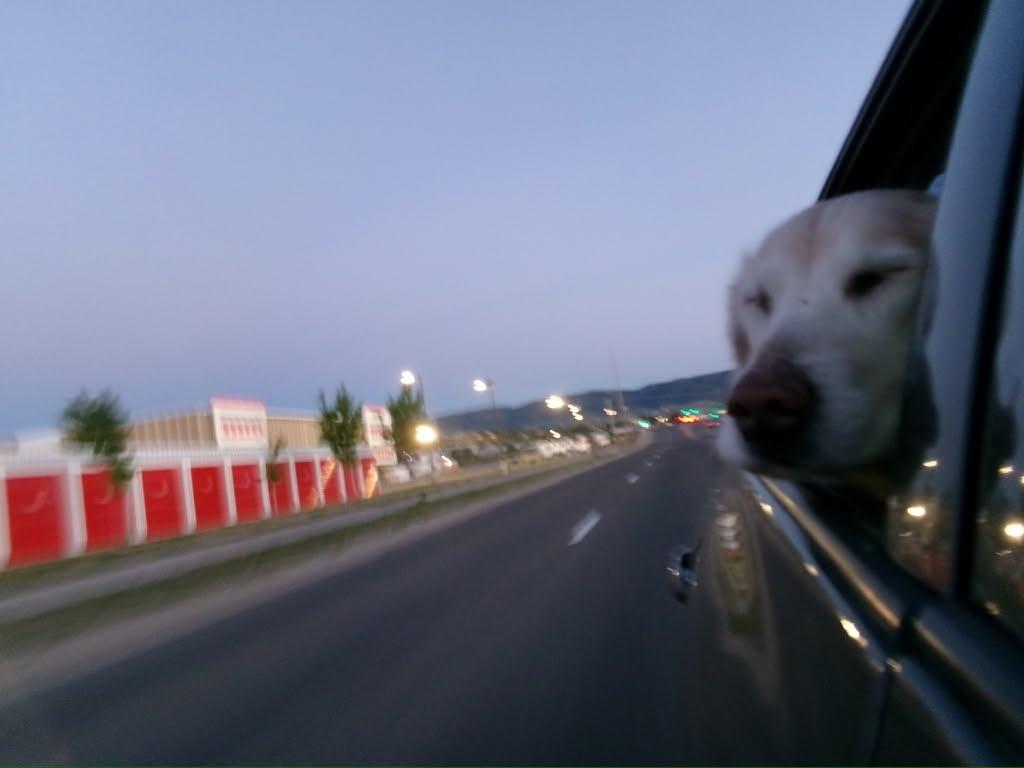adult_dog: (716, 184, 953, 483)
